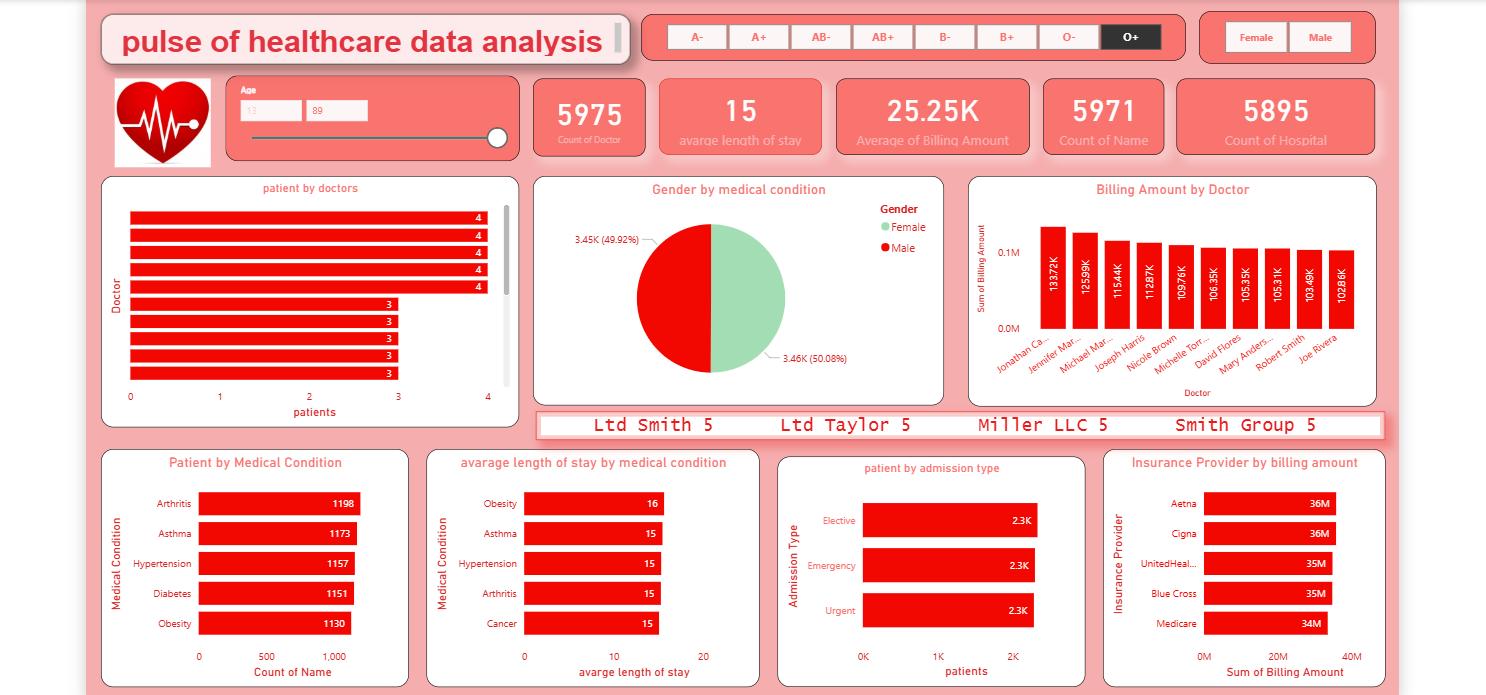

The dashboard page shown, as its layout file describes it:
{"tool":"powerbi","page":{"name":"Page 1","canvas":[1594,854],"ordinal":0},"visuals":[{"type":"slicer","fields":{"Values":["healthcare_dataset.Blood Type"]},"box":[675.1,18.9,661.9,56.6],"z":0},{"type":"slicer","fields":{"Values":["healthcare_dataset.Age"]},"box":[169.5,92.9,357.2,103.9],"z":1000},{"type":"slicer","fields":{"Values":["healthcare_dataset.Gender"]},"box":[1352,15.1,215,64.1],"z":2000},{"type":"image","box":[18.2,91.1,149.4,118.4],"z":3000},{"type":"textbox","box":[18.9,18.9,643,61],"z":4000},{"type":"barChart","title":"patient by doctors ","fields":{"Category":["healthcare_dataset.Doctor"],"Y":["Count(healthcare_dataset.Name)"]},"box":[18.3,214.8,508.1,305.1],"z":5000},{"type":"barChart","title":"Patient by Medical Condition","fields":{"Category":["healthcare_dataset.Medical Condition"],"Y":["CountNonNull(healthcare_dataset.Name)"]},"box":[18.8,546,374.2,289.5],"z":6000},{"type":"barChart","title":"avarage length of stay by medical condition","fields":{"Y":["healthcare_dataset.avarge length of stay"],"Category":["healthcare_dataset.Medical Condition"]},"box":[414.2,546,404.8,289.5],"z":7000},{"type":"pieChart","title":"Gender by medical condition","fields":{"Category":["healthcare_dataset.Gender"],"Y":["CountNonNull(healthcare_dataset.Medical Condition)"]},"box":[543,215,499.3,278.8],"z":8000},{"type":"clusteredColumnChart","title":" Billing Amount by Doctor","fields":{"Category":["healthcare_dataset.Doctor"],"Y":["Sum(healthcare_dataset.Billing Amount)"]},"box":[1070.8,214.2,496.6,280.1],"z":9000},{"type":"clusteredBarChart","title":" Insurance Provider by billing amount","fields":{"Category":["healthcare_dataset.Insurance Provider"],"Y":["Sum(healthcare_dataset.Billing Amount)"]},"box":[1235.5,546,343.6,289.5],"z":10000},{"type":"card","fields":{"Values":["Count(healthcare_dataset.Name)"]},"box":[1162.6,96.6,147.6,92.9],"z":11000},{"type":"card","fields":{"Values":["Avg(healthcare_dataset.Billing Amount)"]},"box":[911.1,96.6,235.1,92.9],"z":12000},{"type":"card","fields":{"Values":["Count(healthcare_dataset.Hospital)"]},"box":[1325.6,96.2,241.4,92.4],"z":13000},{"type":"card","fields":{"Values":["Count(healthcare_dataset.Doctor)"]},"box":[543,96.6,136.7,94.8],"z":14000},{"type":"ScrollingTextVisual1448795304508","fields":{"Category":["healthcare_dataset.Hospital"],"Measure Absolute":["CountNonNull(healthcare_dataset.Name)"]},"box":[546.7,501.1,1031.4,34.6],"z":15000},{"type":"card","fields":{"Values":["healthcare_dataset.avarge length of stay"]},"box":[695.8,96.2,198,92.4],"z":16000},{"type":"barChart","title":"patient by admission type","fields":{"Y":["CountNonNull(healthcare_dataset.Name)"],"Category":["healthcare_dataset.Admission Type"]},"box":[840.2,555.4,374.2,280.1],"z":17000}]}

Visuals, with their boxes on the page's 1594x854 design canvas (x1, y1, x2, y2). These are canvas units, not pixel positions in the 1486x695 screenshot, which may show the page scaled, cropped or inside an application window:
slicer - healthcare_dataset.Blood Type: (675,19,1337,76)
slicer - healthcare_dataset.Age: (170,93,527,197)
slicer - healthcare_dataset.Gender: (1352,15,1567,79)
image: (18,91,168,210)
textbox: (19,19,662,80)
"patient by doctors " barChart: (18,215,526,520)
"Patient by Medical Condition" barChart: (19,546,393,836)
"avarage length of stay by medical condition" barChart: (414,546,819,836)
"Gender by medical condition" pieChart: (543,215,1042,494)
" Billing Amount by Doctor" clusteredColumnChart: (1071,214,1567,494)
" Insurance Provider by billing amount" clusteredBarChart: (1236,546,1579,836)
card - Count(healthcare_dataset.Name): (1163,97,1310,190)
card - Avg(healthcare_dataset.Billing Amount): (911,97,1146,190)
card - Count(healthcare_dataset.Hospital): (1326,96,1567,189)
card - Count(healthcare_dataset.Doctor): (543,97,680,191)
ScrollingTextVisual1448795304508 - healthcare_dataset.Hospital x CountNonNull(healthcare_dataset.Name): (547,501,1578,536)
card - healthcare_dataset.avarge length of stay: (696,96,894,189)
"patient by admission type" barChart: (840,555,1214,836)
